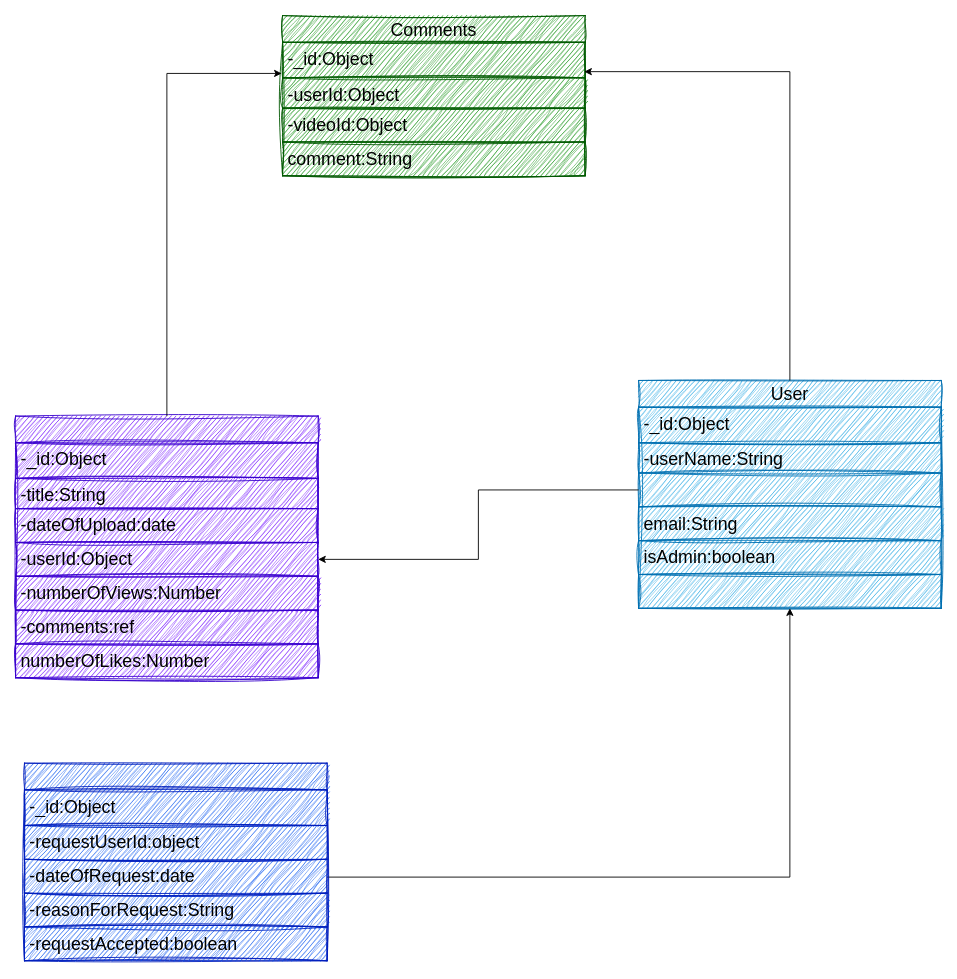
Some shapes in this 957 by 979 pixel diagram are drawn without their labels. The box of each missing label's shape, as (x1, y1, x2, y2) in pixels:
-password_digest:String: (638, 472, 941, 507)
AdminRequest: (24, 762, 327, 961)
isActive:boolean: (638, 574, 941, 608)
Video: (15, 415, 318, 678)
